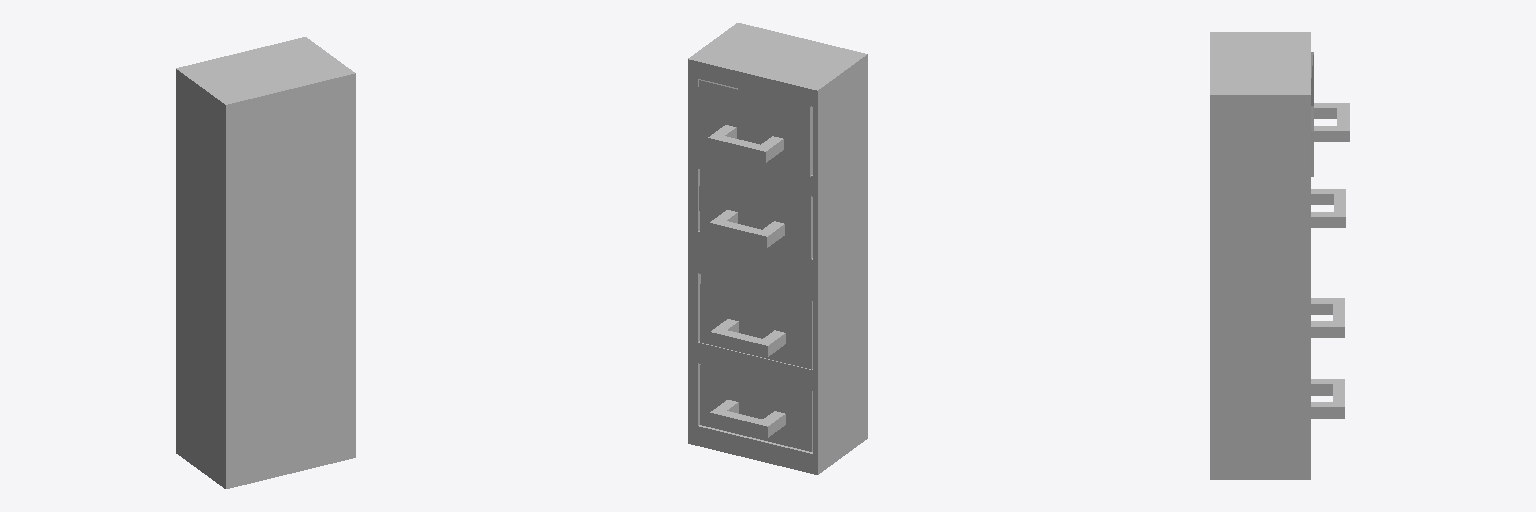
Rendered from FlieCabonet .obj.
The picture shows the model from 3 angles: view 1: azimuth 30°, elevation 25°; view 2: azimuth 150°, elevation 25°; view 3: azimuth 270°, elevation 25°; orthographic projection.
Visible parts, largest first — view 1: polySurface13; view 2: polySurface13, polySurface11, polySurface10, polySurface6, polySurface12; view 3: polySurface13, polySurface11, polySurface6, polySurface12, polySurface10.
Part boxes in pixels (x1,y1,x2,y2): polySurface13: (176,37,355,488); polySurface13: (688,23,867,474); polySurface11: (698,79,812,176); polySurface10: (699,165,812,261); polySurface6: (700,274,812,369); polySurface12: (700,364,812,451); polySurface13: (1210,32,1310,479); polySurface11: (1311,52,1349,176); polySurface6: (1311,298,1344,337); polySurface12: (1311,379,1344,418); polySurface10: (1311,189,1345,227).
Bounding box in the file's own units: 1.45 × 4.08 × 1.34.